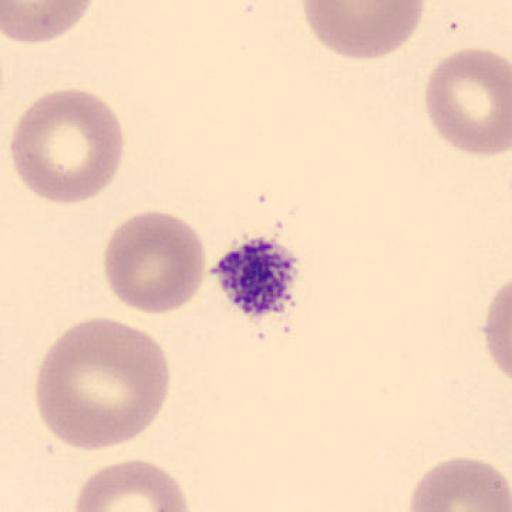Platelet: (210, 233, 302, 321)
RBC: (36, 316, 170, 451), (9, 87, 125, 206), (102, 209, 208, 316), (424, 46, 512, 157), (301, 0, 427, 62), (73, 457, 193, 512), (408, 454, 512, 512), (2, 0, 95, 44), (482, 278, 512, 385)
